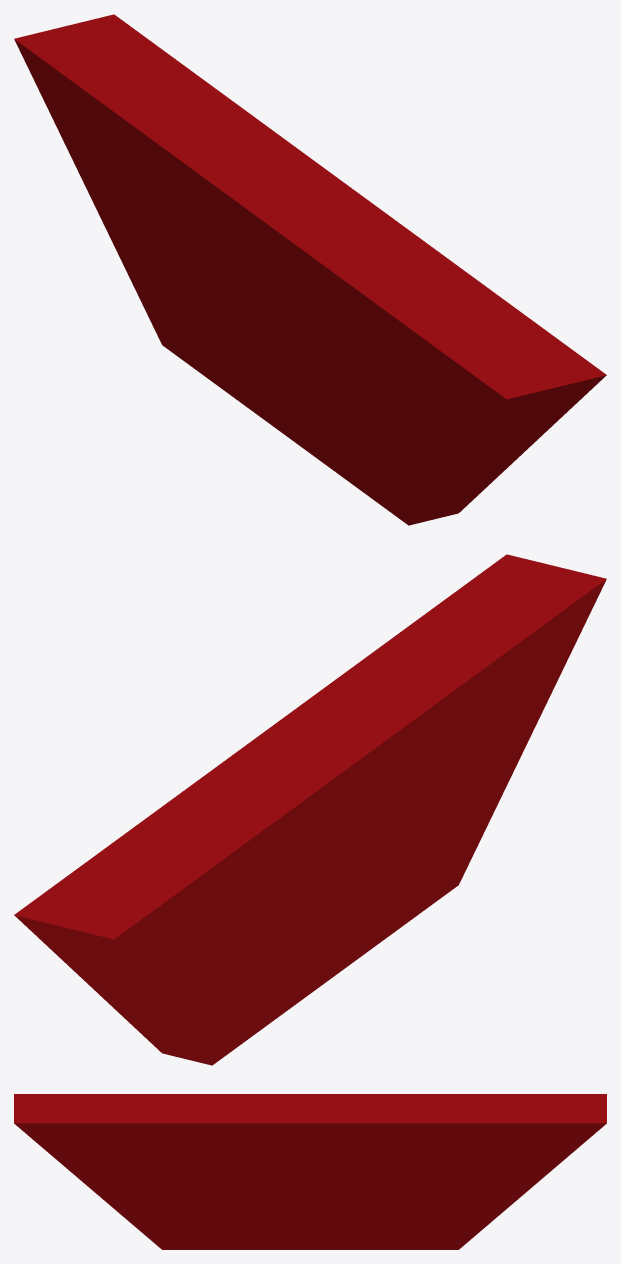
Rendered from room.glb.
3 renders of one model, top to bottom at view 1: azimuth 30°, elevation 25°; view 2: azimuth 150°, elevation 25°; view 3: azimuth 270°, elevation 25°, orthographic. The views are drawn at different scales.
Visible parts, largest first — view 1: Room; view 2: Room; view 3: Room.
Part boxes in pixels (left/top/right/bottom): Room: left=14, top=14, right=606, bottom=525; Room: left=14, top=554, right=606, bottom=1065; Room: left=14, top=1094, right=606, bottom=1249.
Bounding box in the file's own units: 13.38 × 28.38 × 114.
